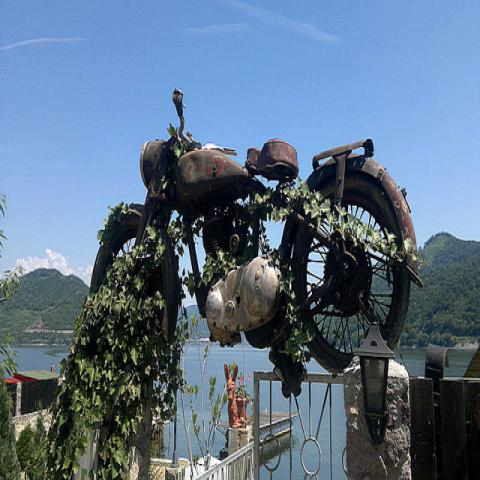motorcycle: (85, 88, 425, 373)
